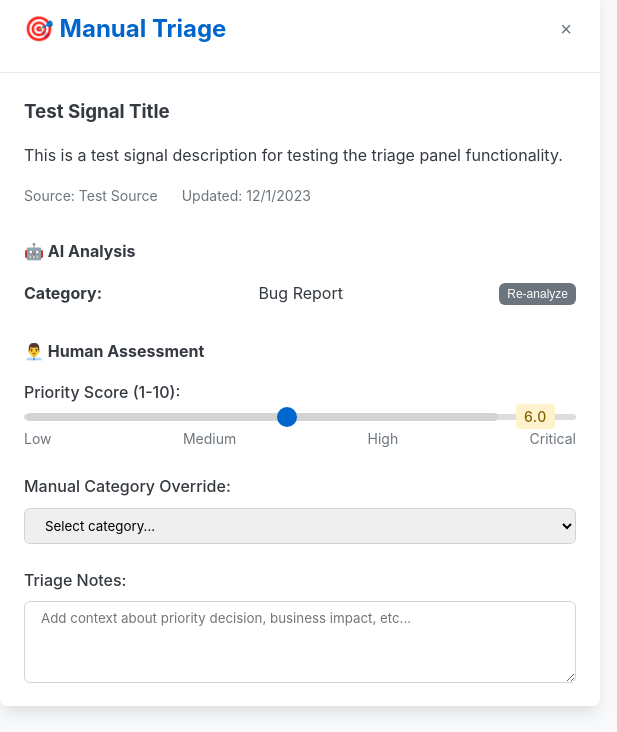
TriagePanel › User Interactions › updates manual score when slider changes
Set the slider labelled "Priority Score (1-10):" to "8". click: (389, 417)
box: [26, 413, 498, 421]
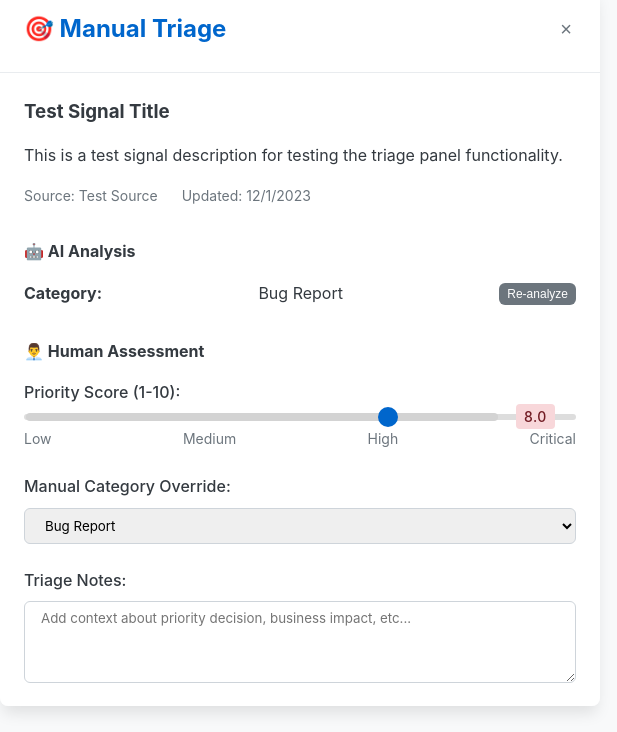
Expected: the text "8.0" is shown, [516, 404, 555, 429]
